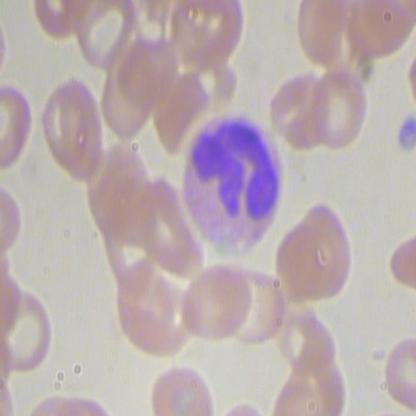Platelets: (393, 108, 415, 153)
RBC: (294, 197, 358, 302), (42, 77, 105, 182), (180, 261, 253, 341), (308, 69, 374, 153), (263, 68, 329, 151), (1, 286, 57, 376)
WBC: (181, 111, 284, 261)
